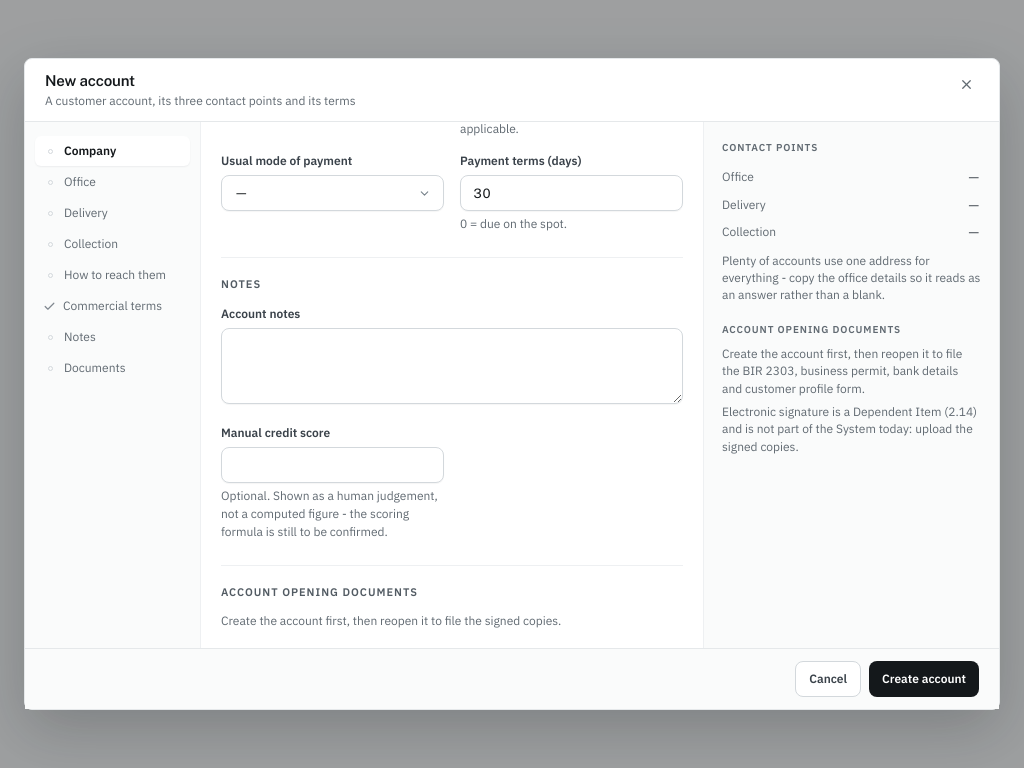
Scenario: CustomerForm › reports every problem at once, on the field it is about
(page scrolled)
Type "140" into the number field labelled "Manual credit score" at [332, 465], box left=221, top=447, right=444, bottom=483
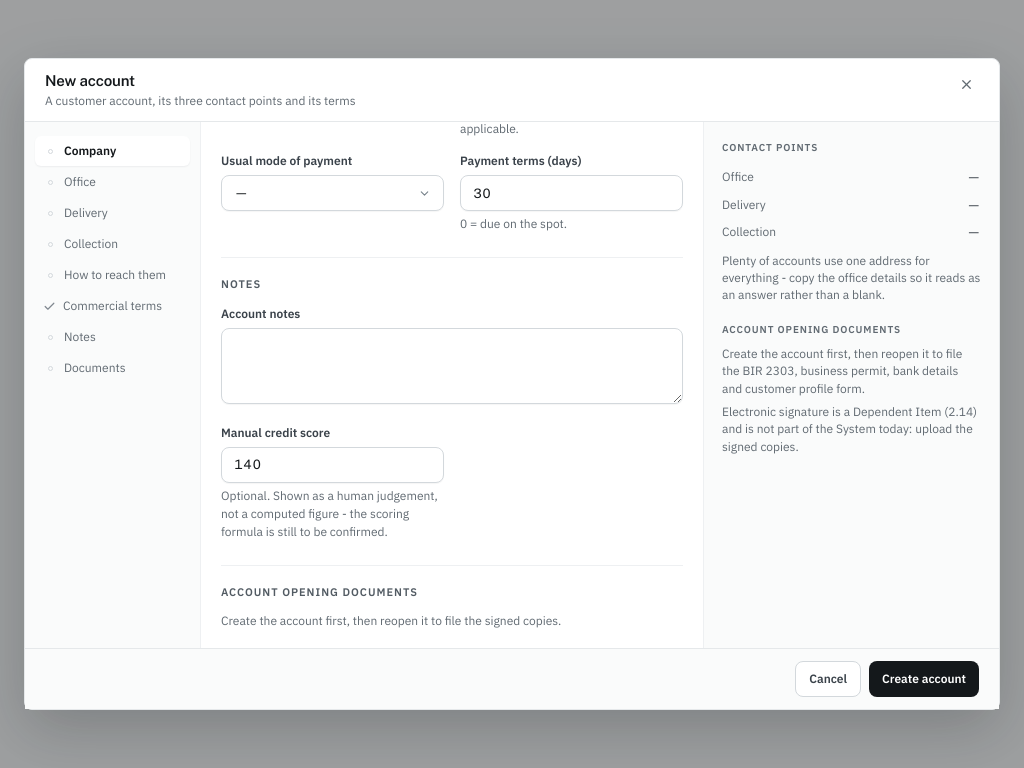
Replace the text in the number field labelled "Payment terms (days)" with "-3" at [572, 193], box left=460, top=175, right=683, bottom=211
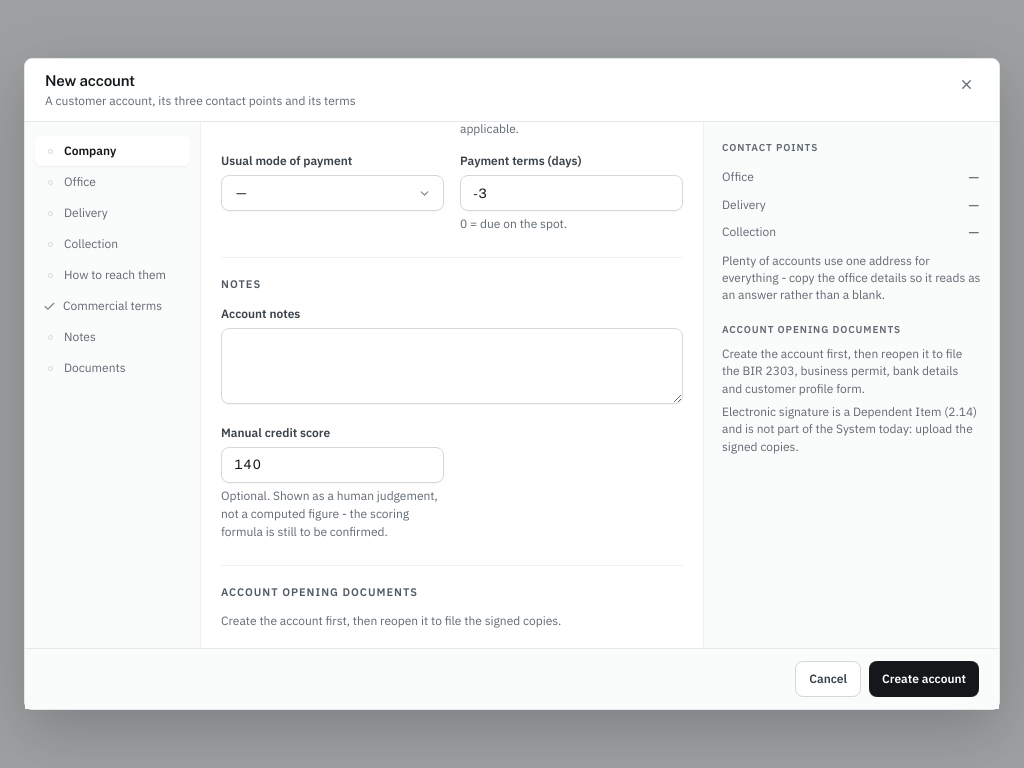
Click the button "Create account" at [924, 679], box left=869, top=661, right=979, bottom=697
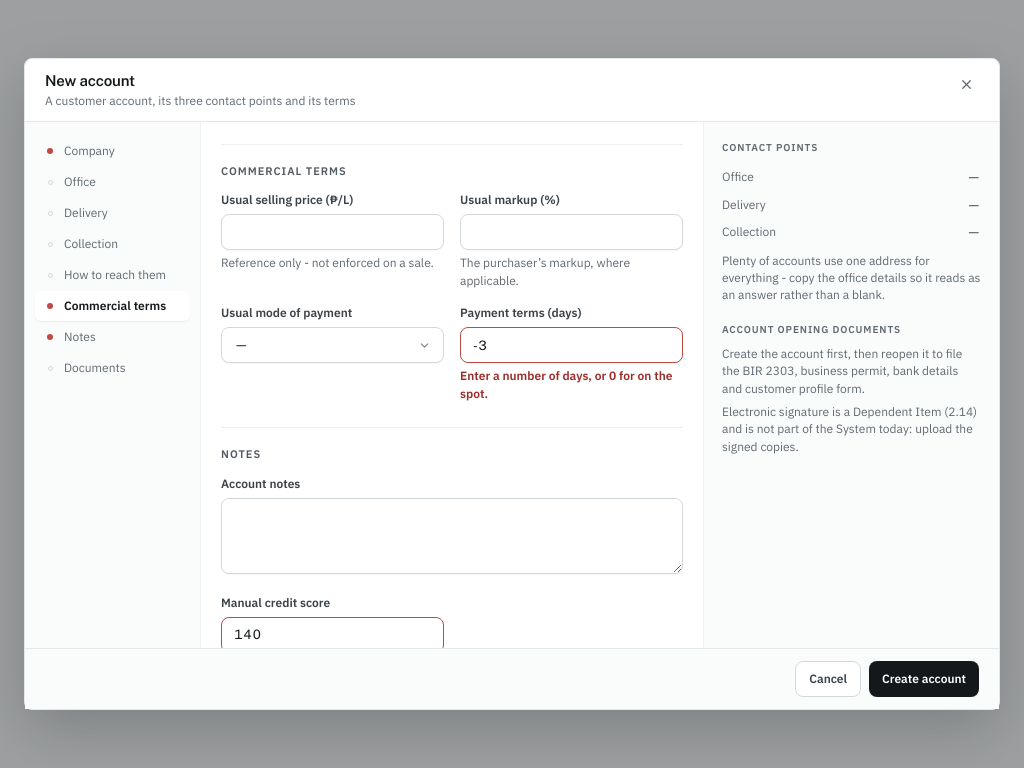
Now the text "Enter a number of days, or 0 for on the spot." is shown, box left=460, top=367, right=683, bottom=403
